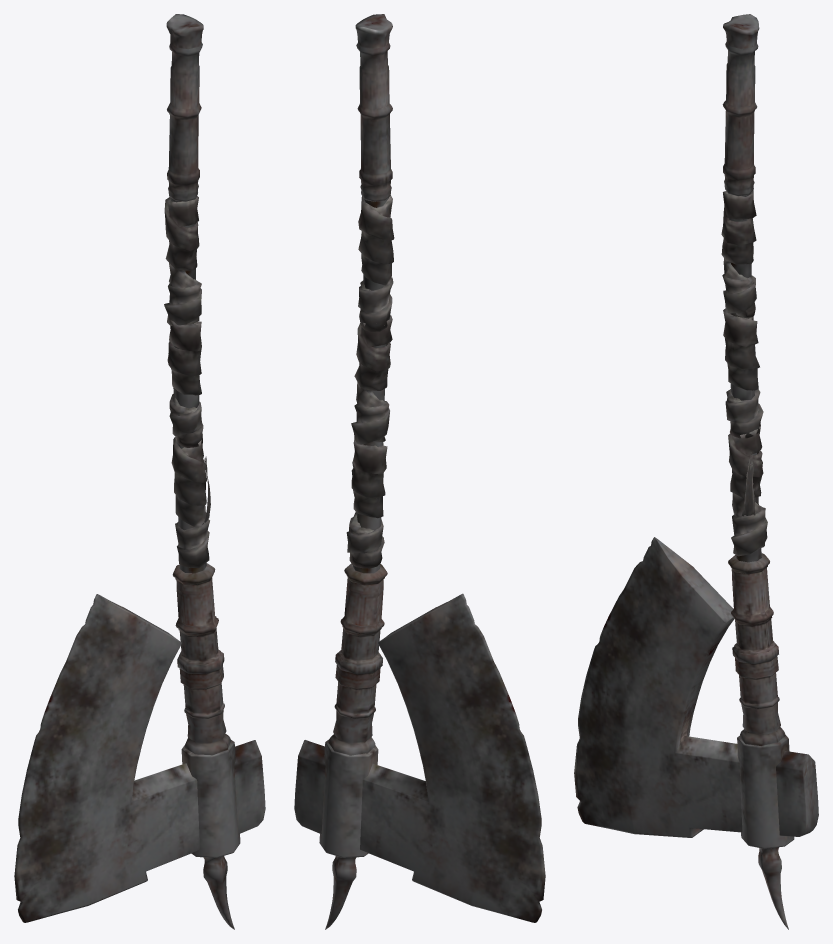
The model's file is weapon-wp_a_1006.glb.
3 views of the same model, side by side, from view 1: azimuth 30°, elevation 25°; view 2: azimuth 150°, elevation 25°; view 3: azimuth 330°, elevation 25° (orthographic). The views are drawn at different scales.
Visible parts, largest first — view 1: wp_a_1006_mesh; view 2: wp_a_1006_mesh; view 3: wp_a_1006_mesh.
Boxes of the visible parts, bbox=[...] form: wp_a_1006_mesh: bbox=[14, 14, 265, 929]; wp_a_1006_mesh: bbox=[294, 14, 545, 929]; wp_a_1006_mesh: bbox=[574, 14, 818, 929].
Bounding box in the file's own units: 0.5253 × 1.88 × 0.089.
Materials: 2 (2 with a texture image).
